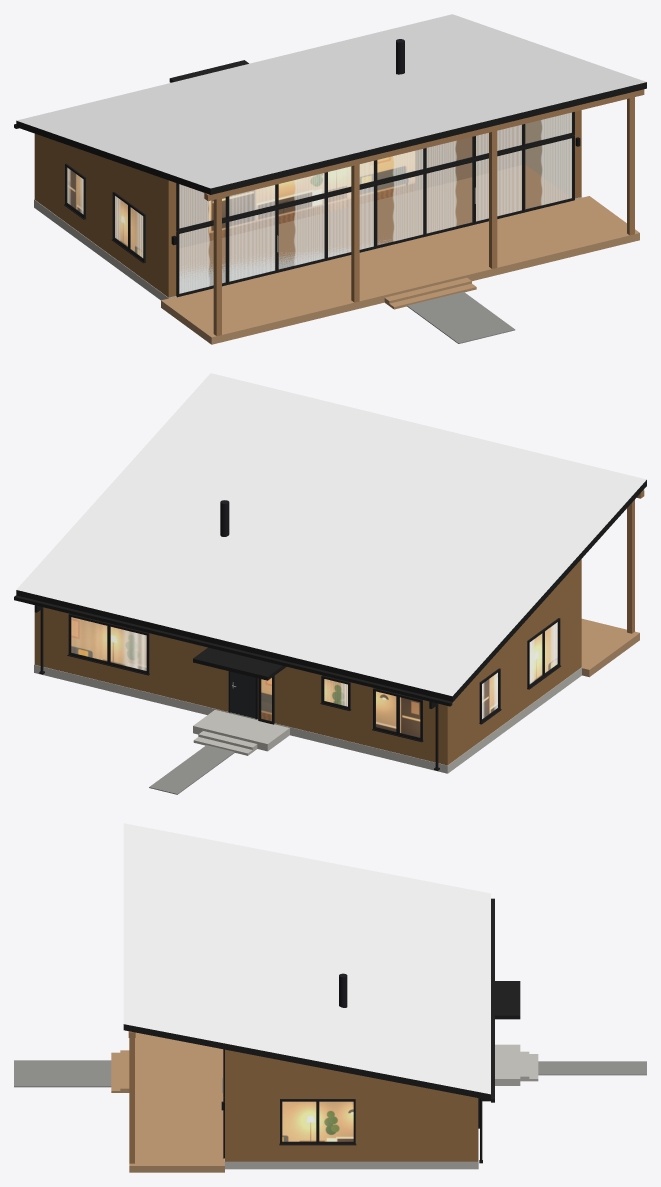
The model's file is kuma144_c0_p0_m0.glb.
The picture shows the model from 3 angles, top to bottom: view 1: azimuth 30°, elevation 25°; view 2: azimuth 150°, elevation 25°; view 3: azimuth 270°, elevation 25°; orthographic projection. The views are drawn at different scales.
Parts seen in each view (by area): view 1: roof, glass, soffit, deck, veil, wall, frame, room, fascia, plinth, paving, interior_side (+1 smaller); view 2: roof, wall, fascia, plinth, glass, room, frame, deck, sheer, paving, soffit, door; view 3: roof, wall, deck, fascia, paving, plinth, room, glass, frame, soffit.
Boxes of the visible parts, x1,y1,x2,y2 form: roof: [17, 14, 646, 188]; glass: [68, 113, 571, 293]; soffit: [179, 89, 644, 335]; deck: [161, 196, 639, 344]; veil: [179, 113, 571, 293]; wall: [34, 110, 581, 297]; frame: [64, 112, 574, 297]; room: [68, 151, 414, 256]; fascia: [14, 60, 646, 194]; plinth: [34, 197, 582, 300]; paving: [407, 292, 515, 343]; interior_side: [525, 113, 571, 197]; roof: [16, 373, 646, 696]; wall: [34, 559, 581, 765]; fascia: [14, 480, 646, 770]; plinth: [34, 664, 582, 773]; glass: [72, 618, 557, 737]; room: [71, 617, 555, 737]; frame: [67, 614, 560, 742]; deck: [581, 618, 639, 677]; sheer: [121, 622, 557, 718]; paving: [149, 745, 234, 794]; soffit: [627, 490, 644, 633]; door: [230, 671, 255, 718]; roof: [123, 823, 490, 1094]; wall: [225, 1049, 478, 1161]; deck: [111, 1032, 224, 1172]; fascia: [123, 898, 520, 1163]; paving: [14, 1060, 646, 1087]; plinth: [224, 1044, 538, 1169]; room: [282, 1101, 353, 1141]; glass: [283, 1102, 352, 1141]; frame: [223, 1049, 479, 1158]; soffit: [128, 1031, 135, 1163].
Bounding box in the file's own units: 16.9 × 5.9 × 22.5.
Materials: 18 (7 with a texture image).
